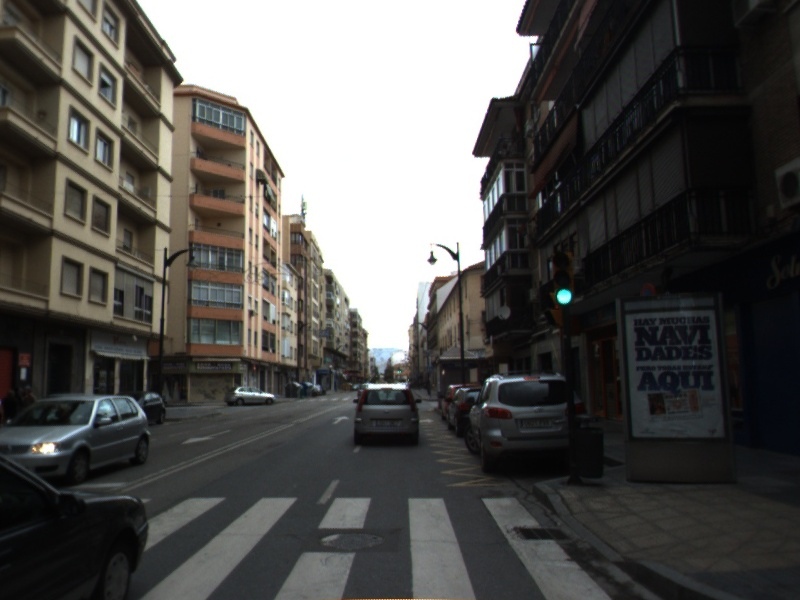STRAIGHT: (331, 414, 351, 426)
